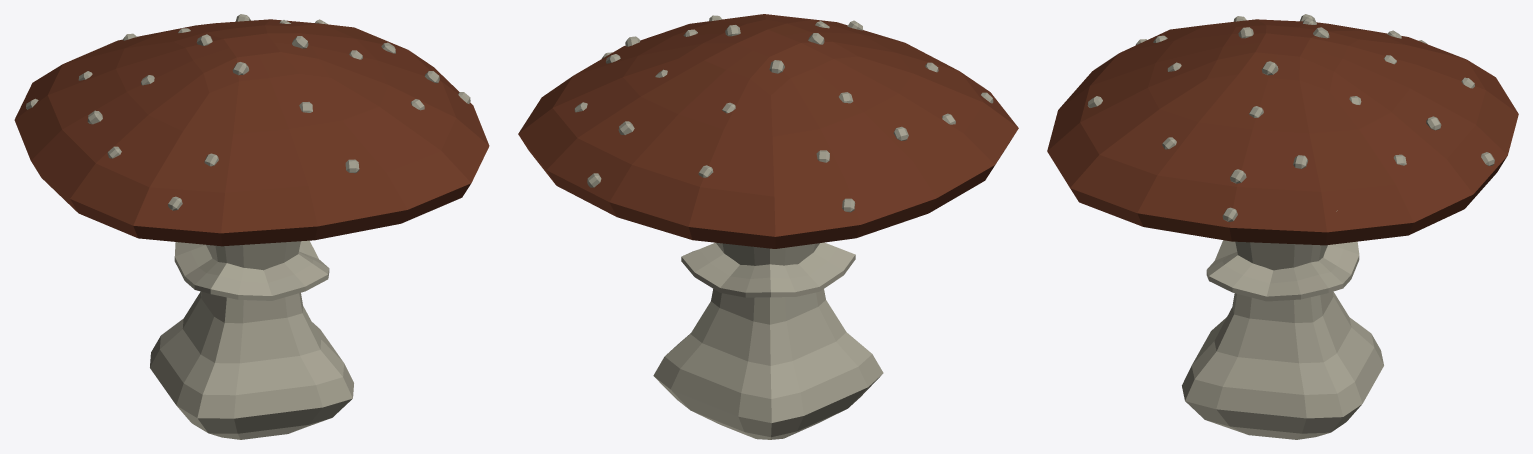
File: Mushroom_4.glb
3 views of the same model, side by side, from view 1: azimuth 30°, elevation 25°; view 2: azimuth 150°, elevation 25°; view 3: azimuth 270°, elevation 25° (orthographic).
Visible parts, largest first — view 1: Mushroom_4_Cube.002; view 2: Mushroom_4_Cube.002; view 3: Mushroom_4_Cube.002.
Boxes of the visible parts, x1,y1,x2,y2 form: Mushroom_4_Cube.002: (14,14,489,439); Mushroom_4_Cube.002: (518,14,1018,439); Mushroom_4_Cube.002: (1047,14,1518,439).
Size of the model in its own units: 0.4451 by 0.3995 by 0.4451.
